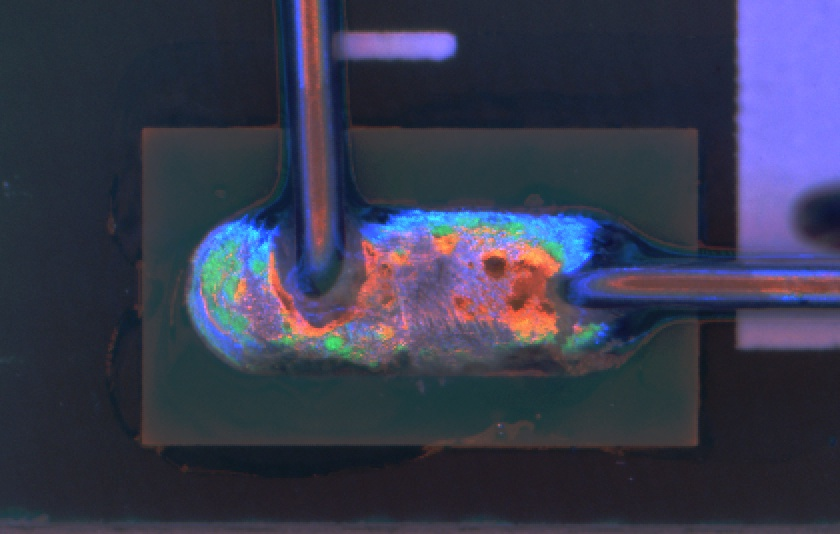spring: (271, 1, 350, 312), (546, 247, 837, 316)
spring_pin: (182, 209, 664, 367)
